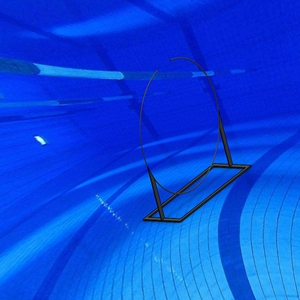circle: (131, 56, 254, 224)
